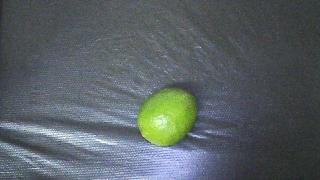LOCAL: (137, 88, 197, 146)
